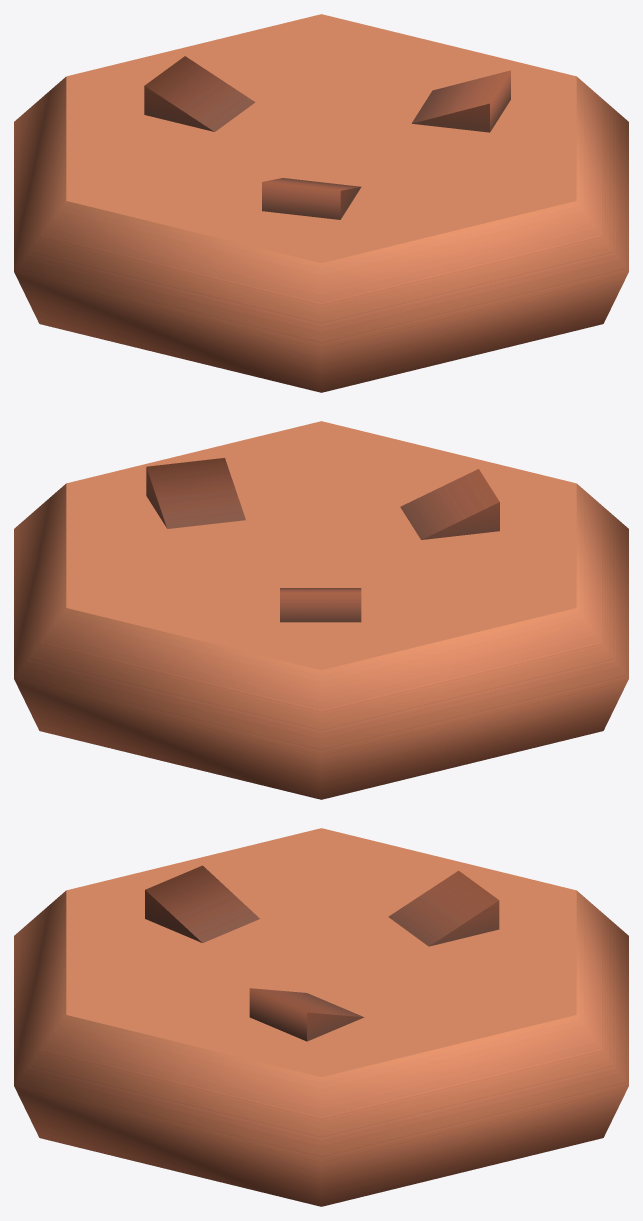
Rendered from cookie.glb.
The picture shows the model from 3 angles, top to bottom: view 1: azimuth 30°, elevation 25°; view 2: azimuth 150°, elevation 25°; view 3: azimuth 270°, elevation 25°; orthographic projection.
Visible parts, largest first — view 1: cookie; view 2: cookie; view 3: cookie.
Boxes of the visible parts, x1=… form: cookie: x1=14, y1=14, x2=628, y2=392; cookie: x1=14, y1=421, x2=628, y2=799; cookie: x1=14, y1=828, x2=628, y2=1206.
Bounding box in the file's own units: 0.2197 × 0.0498 × 0.1903.
1 material, 1 textured.
